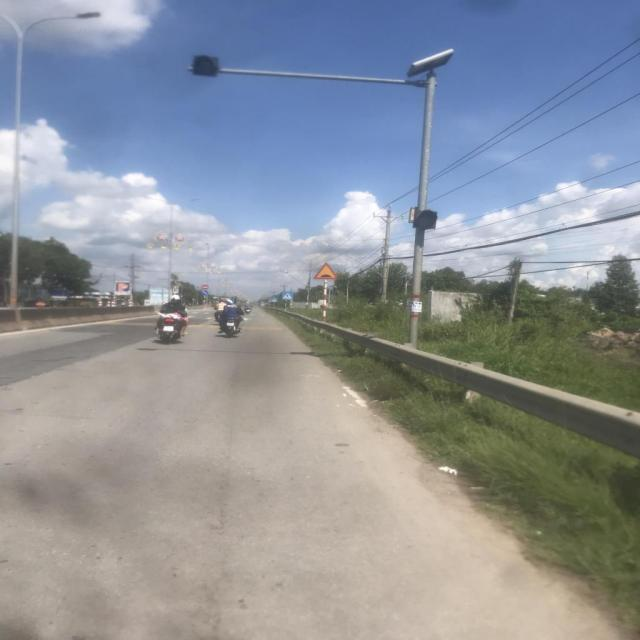221-duong-go-ghe: (313, 262, 336, 279)
